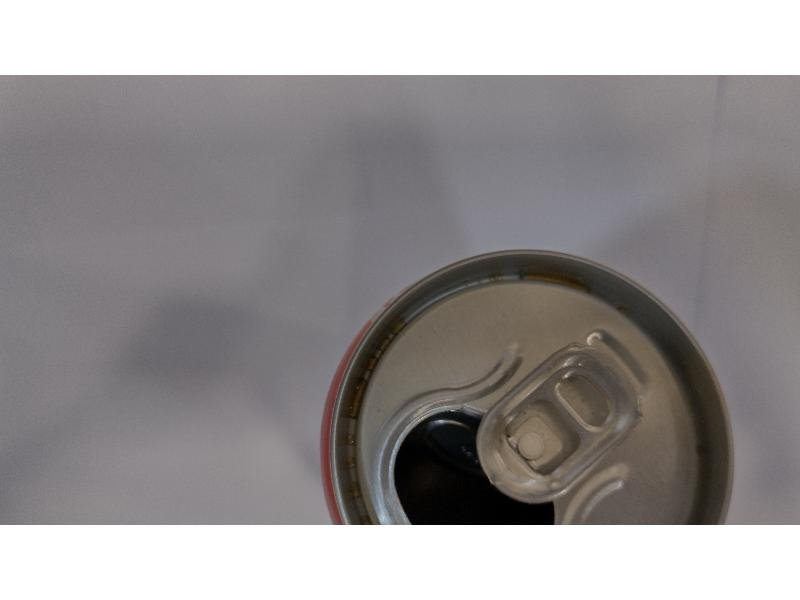can: (310, 242, 746, 522)
